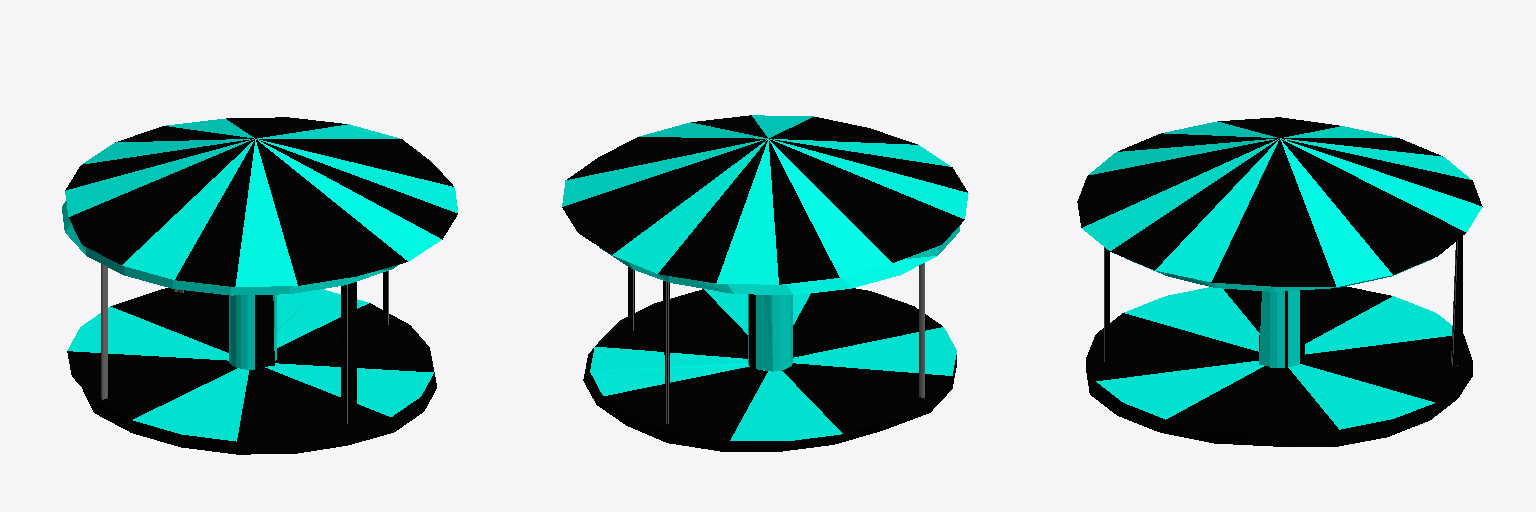
File: carrosel_estrutura.obj
3 renders of one model, left to right at view 1: azimuth 30°, elevation 25°; view 2: azimuth 150°, elevation 25°; view 3: azimuth 270°, elevation 25°, orthographic.
Parts seen in each view (by area): view 1: carrosel_estrutura; view 2: carrosel_estrutura; view 3: carrosel_estrutura.
Boxes of the visible parts, box(x1,y1,x2,y2) form: carrosel_estrutura: box(62, 117, 457, 454); carrosel_estrutura: box(562, 115, 968, 451); carrosel_estrutura: box(1077, 117, 1482, 446).
Bounding box in the file's own units: 7.76 × 5 × 7.82.